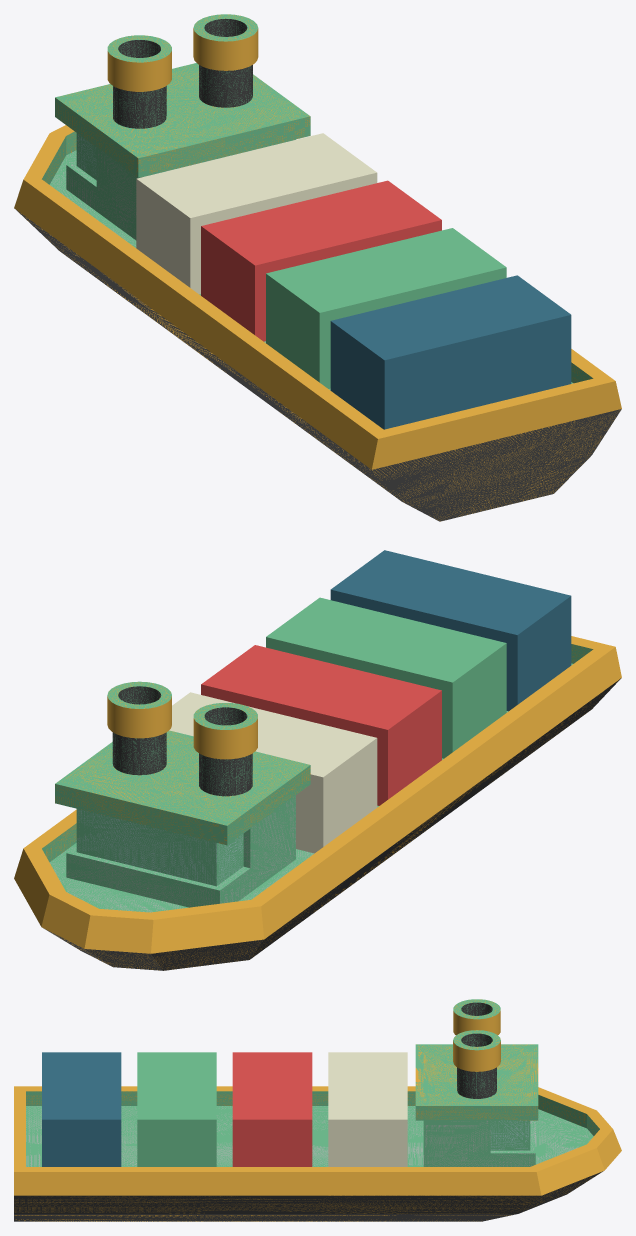
Rendered from boat_005.dae.
3 views of the same model, one above another, from view 1: azimuth 30°, elevation 25°; view 2: azimuth 150°, elevation 25°; view 3: azimuth 270°, elevation 25° (orthographic). The views are drawn at different scales.
Visible parts, largest first — view 1: Container (×4), boat_005; view 2: boat_005, Container (×4); view 3: boat_005, Container (×4).
Boxes of the visible parts, left/top/right/bottom form: Container (×4): left=136, top=133, right=571, bottom=429; boat_005: left=14, top=14, right=621, bottom=521; boat_005: left=14, top=636, right=621, bottom=970; Container (×4): left=169, top=550, right=571, bottom=853; boat_005: left=14, top=999, right=621, bottom=1221; Container (×4): left=42, top=1052, right=407, bottom=1166.
Bounding box in the file's own units: 3.69 × 3.38 × 10.55.
